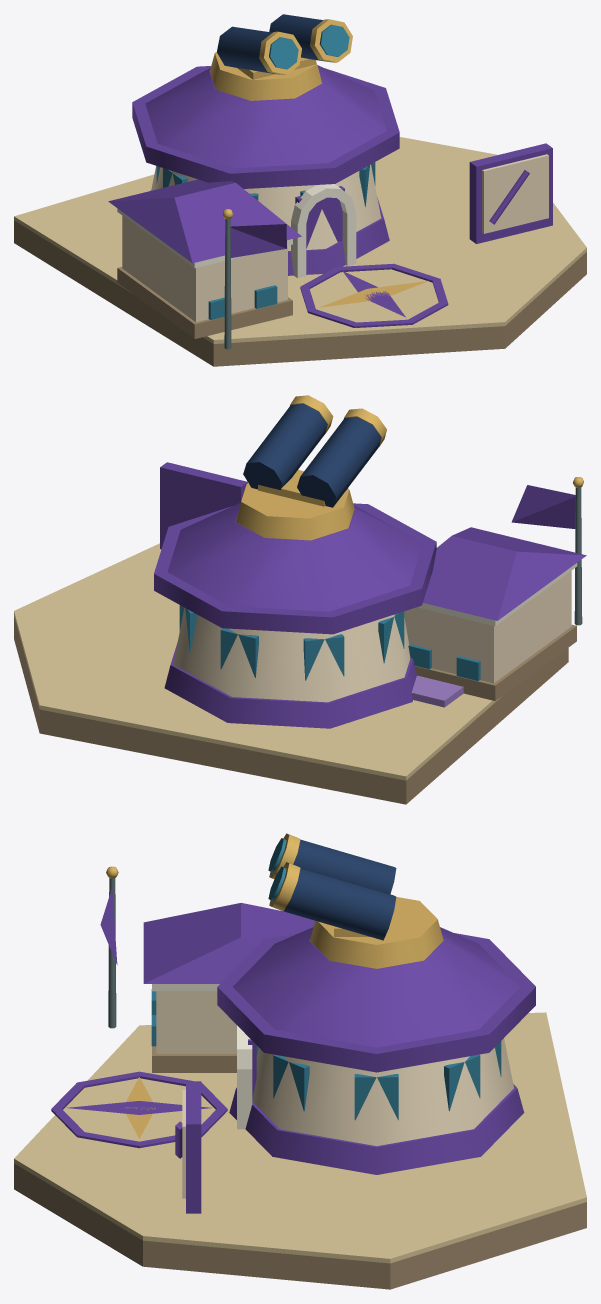
The model's file is scout-center-lv2.glb.
3 views of the same model, one above another, from view 1: azimuth 30°, elevation 25°; view 2: azimuth 150°, elevation 25°; view 3: azimuth 270°, elevation 25° (orthographic). The views are drawn at different scales.
Visible parts, largest first — view 1: foundation_sand, faceted_roof_violet, foundation_stoneDark, archive_wing_cream, observation_eave_violet, archive_wing_roof_violet, map_board_cream, octagonal_office_cream, compass_violet, archive_wing_stoneDark, roof_binoculars_naval, optic_pedestal_gold (+12 smaller); view 2: foundation_sand, faceted_roof_violet, foundation_stoneDark, octagonal_office_cream, archive_wing_roof_violet, observation_eave_violet, archive_wing_cream, roof_binoculars_naval, office_plinth_violet, optic_pedestal_gold, map_board_violet, office_windows_glass (+8 smaller); view 3: foundation_sand, faceted_roof_violet, octagonal_office_cream, foundation_stoneDark, observation_eave_violet, archive_wing_roof_violet, office_plinth_violet, roof_binoculars_naval, optic_pedestal_gold, archive_wing_cream, compass_violet, office_windows_glass (+8 smaller).
Part boxes in pixels (box(x1,y1,x2,y2)): foundation_sand: box(14, 137, 586, 343); faceted_roof_violet: box(145, 65, 386, 168); foundation_stoneDark: box(14, 220, 586, 366); archive_wing_cream: box(122, 216, 287, 322); observation_eave_violet: box(132, 66, 399, 188); archive_wing_roof_violet: box(108, 179, 301, 263); map_board_cream: box(482, 154, 548, 233); octagonal_office_cream: box(151, 164, 381, 250); compass_violet: box(300, 263, 448, 327); archive_wing_stoneDark: box(117, 267, 292, 338); roof_binoculars_naval: box(217, 14, 330, 74); optic_pedestal_gold: box(210, 52, 322, 100); foundation_sand: box(14, 543, 501, 780); faceted_roof_violet: box(167, 502, 422, 611); foundation_stoneDark: box(14, 616, 568, 804); octagonal_office_cream: box(173, 607, 410, 702); archive_wing_roof_violet: box(423, 527, 586, 620); observation_eave_violet: box(154, 503, 436, 634); archive_wing_cream: box(404, 571, 571, 683); roof_binoculars_naval: box(243, 403, 381, 507); office_plinth_violet: box(164, 642, 416, 728); optic_pedestal_gold: box(236, 483, 354, 540); map_board_violet: box(160, 462, 247, 549); office_windows_glass: box(179, 605, 404, 680); foundation_sand: box(14, 1012, 586, 1263); faceted_roof_violet: box(233, 927, 520, 1047); octagonal_office_cream: box(252, 1038, 513, 1146); foundation_stoneDark: box(14, 1163, 586, 1289); observation_eave_violet: box(217, 933, 535, 1072); archive_wing_roof_violet: box(143, 903, 314, 983); office_plinth_violet: box(229, 1084, 524, 1174); roof_binoculars_naval: box(283, 839, 396, 940); optic_pedestal_gold: box(310, 897, 443, 968); archive_wing_cream: box(156, 991, 236, 1053); compass_violet: box(51, 1071, 227, 1148); office_windows_glass: box(256, 1041, 501, 1120).
Bounding box in the file's own units: 1 × 0.5571 × 0.9826.
